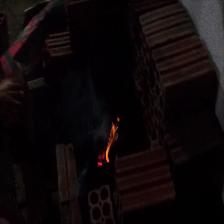fire: (96, 120, 117, 166)
